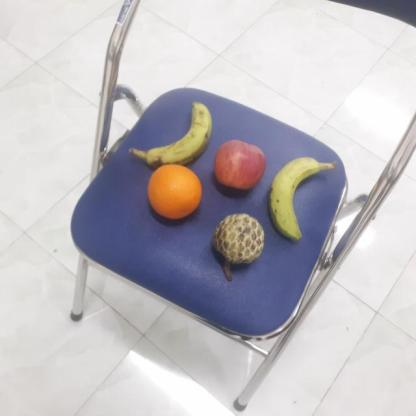annona: (212, 210, 266, 264)
apple: (211, 137, 265, 189)
banana: (267, 156, 328, 242), (143, 98, 216, 169)
orange: (146, 162, 202, 221)
